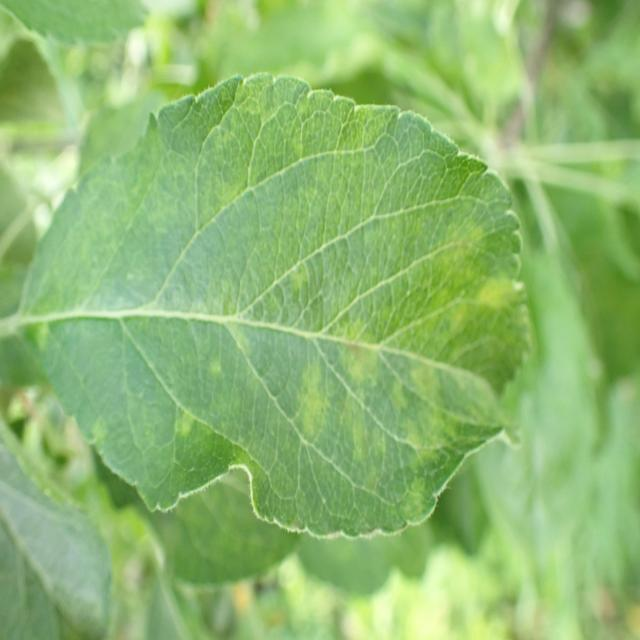scab: (79, 75, 518, 529)
